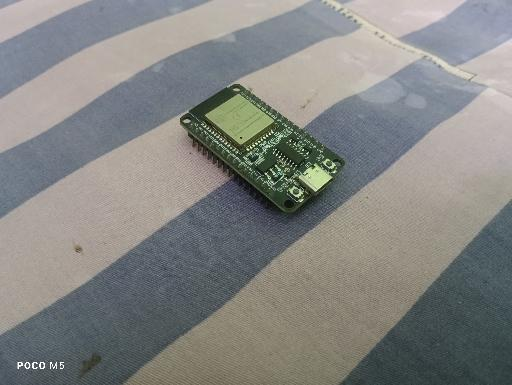Esp32: (179, 83, 346, 215)
